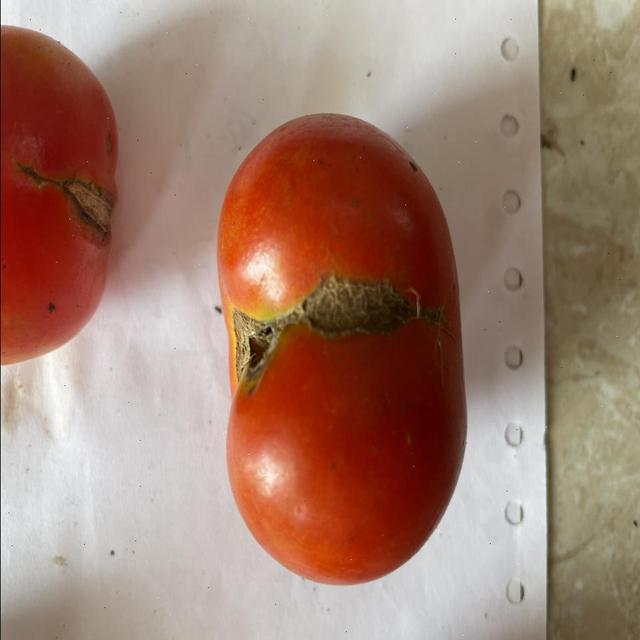Cracking Fruit: (152, 89, 371, 270)
